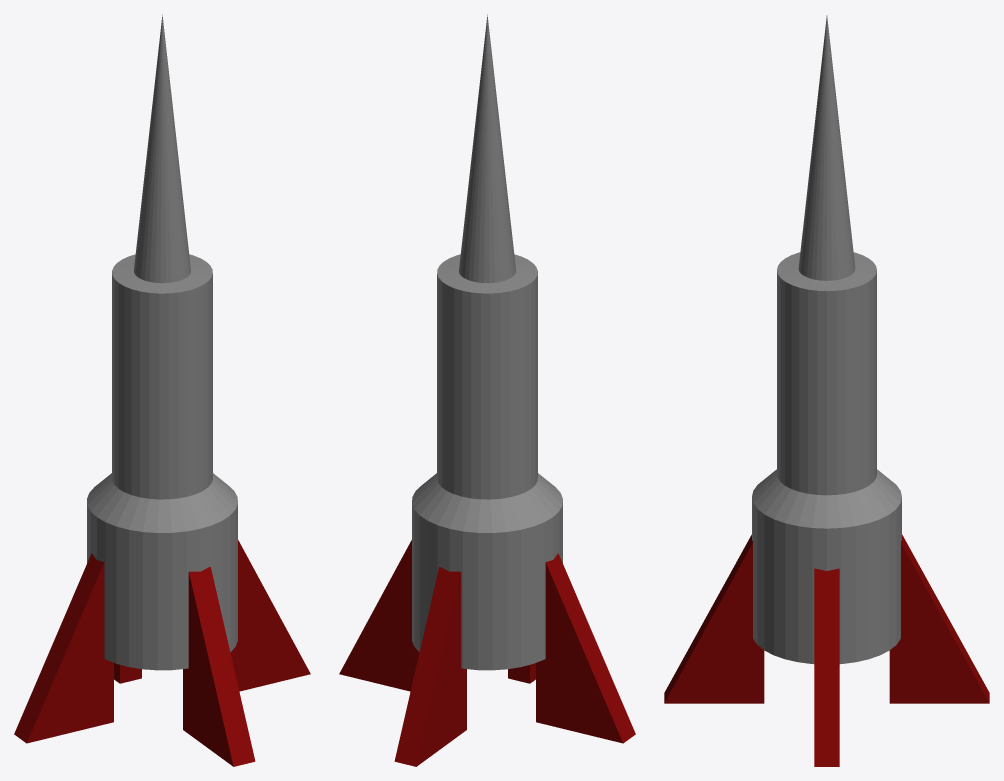
The model's file is Dardo.fbx.
3 views of the same model, side by side, from view 1: azimuth 30°, elevation 25°; view 2: azimuth 150°, elevation 25°; view 3: azimuth 270°, elevation 25° (orthographic).
Visible parts, largest first — view 1: Cone, Cube.002, Cube, Cube.003; view 2: Cone, Cube.002, Cube.001, Cube.003; view 3: Cone, Cube, Cube.001, Cube.003.
Part boxes in pixels (x1,y1,x2,y2): Cone: (87,14,237,670); Cube.002: (14,553,113,743); Cube: (183,566,255,766); Cube.003: (230,540,310,691); Cone: (412,14,562,670); Cube.002: (536,553,635,743); Cube.001: (394,566,466,766); Cube.003: (339,540,419,691); Cone: (752,15,901,664); Cube: (664,534,764,703); Cube.001: (889,534,989,703); Cube.003: (814,568,839,766).
Bounding box in the file's own units: 650 × 1508 × 650.
